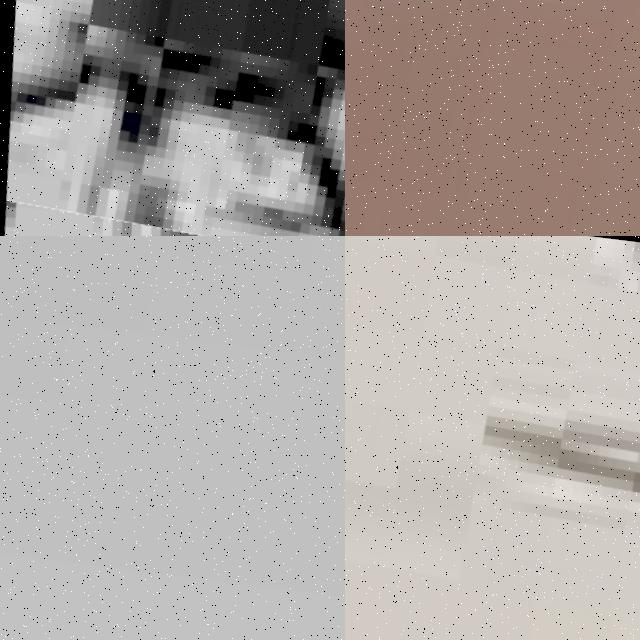drone: (345, 236, 640, 640), (0, 0, 345, 236), (345, 0, 640, 236)
